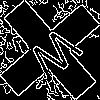W: (25, 25, 91, 91)
